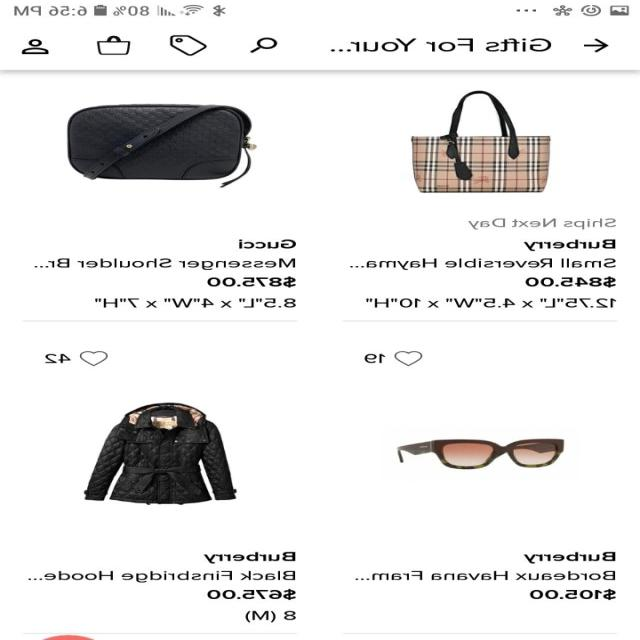Icon: (170, 35, 208, 56), (96, 35, 132, 55), (22, 38, 50, 55), (394, 351, 424, 366), (80, 350, 108, 366), (250, 37, 278, 53), (584, 39, 609, 53)
Image: (68, 103, 257, 188), (85, 402, 238, 505), (412, 90, 552, 193), (398, 439, 564, 469)
Text: (29, 570, 296, 582), (350, 258, 616, 270), (35, 258, 297, 270), (331, 38, 553, 52), (356, 570, 616, 580), (366, 298, 617, 308), (95, 298, 297, 308), (467, 218, 617, 230), (203, 551, 297, 564), (522, 239, 616, 251), (525, 276, 617, 288), (207, 588, 297, 600), (208, 276, 297, 288), (530, 588, 616, 600), (524, 552, 616, 563), (245, 610, 297, 623), (240, 238, 298, 248), (45, 353, 72, 363), (365, 354, 386, 363)
